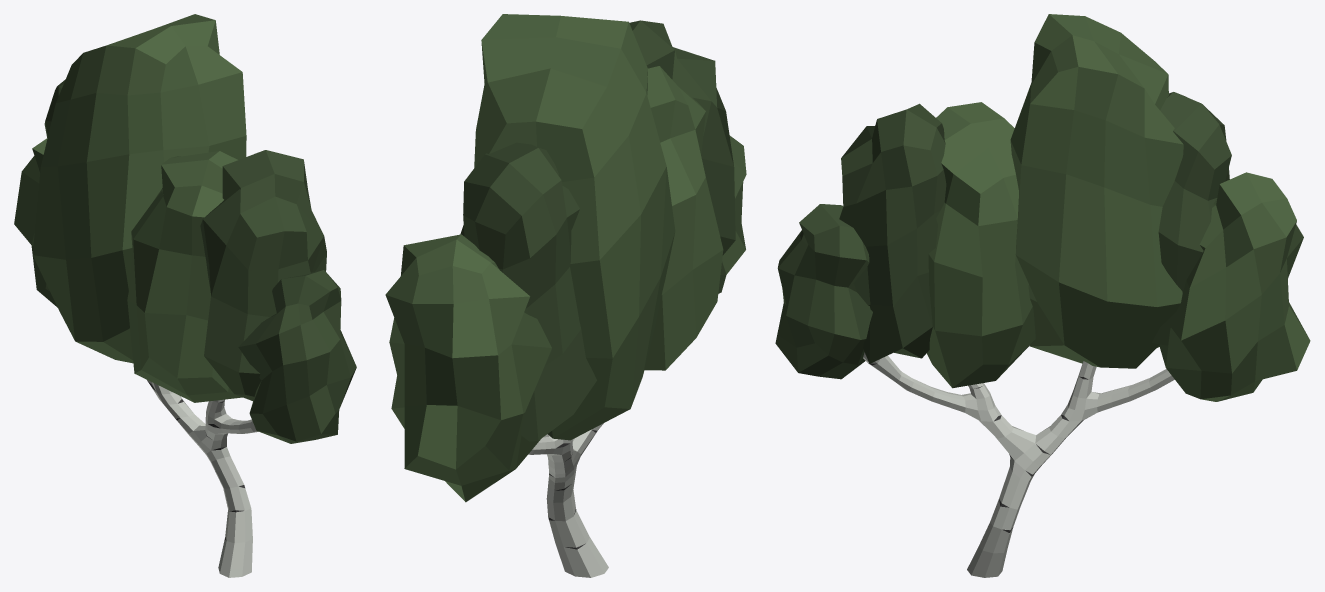
File: BirchTree_4.glb
3 views of the same model, side by side, from view 1: azimuth 30°, elevation 25°; view 2: azimuth 150°, elevation 25°; view 3: azimuth 270°, elevation 25° (orthographic). The views are drawn at different scales.
Visible parts, largest first — view 1: BirchTree; view 2: BirchTree; view 3: BirchTree.
Part boxes in pixels (box(x1,y1,x2,y2)): BirchTree: box(14, 14, 356, 577); BirchTree: box(385, 14, 746, 577); BirchTree: box(775, 14, 1310, 577).
Size of the model in its own units: 1.15 by 3.56 by 3.29.
